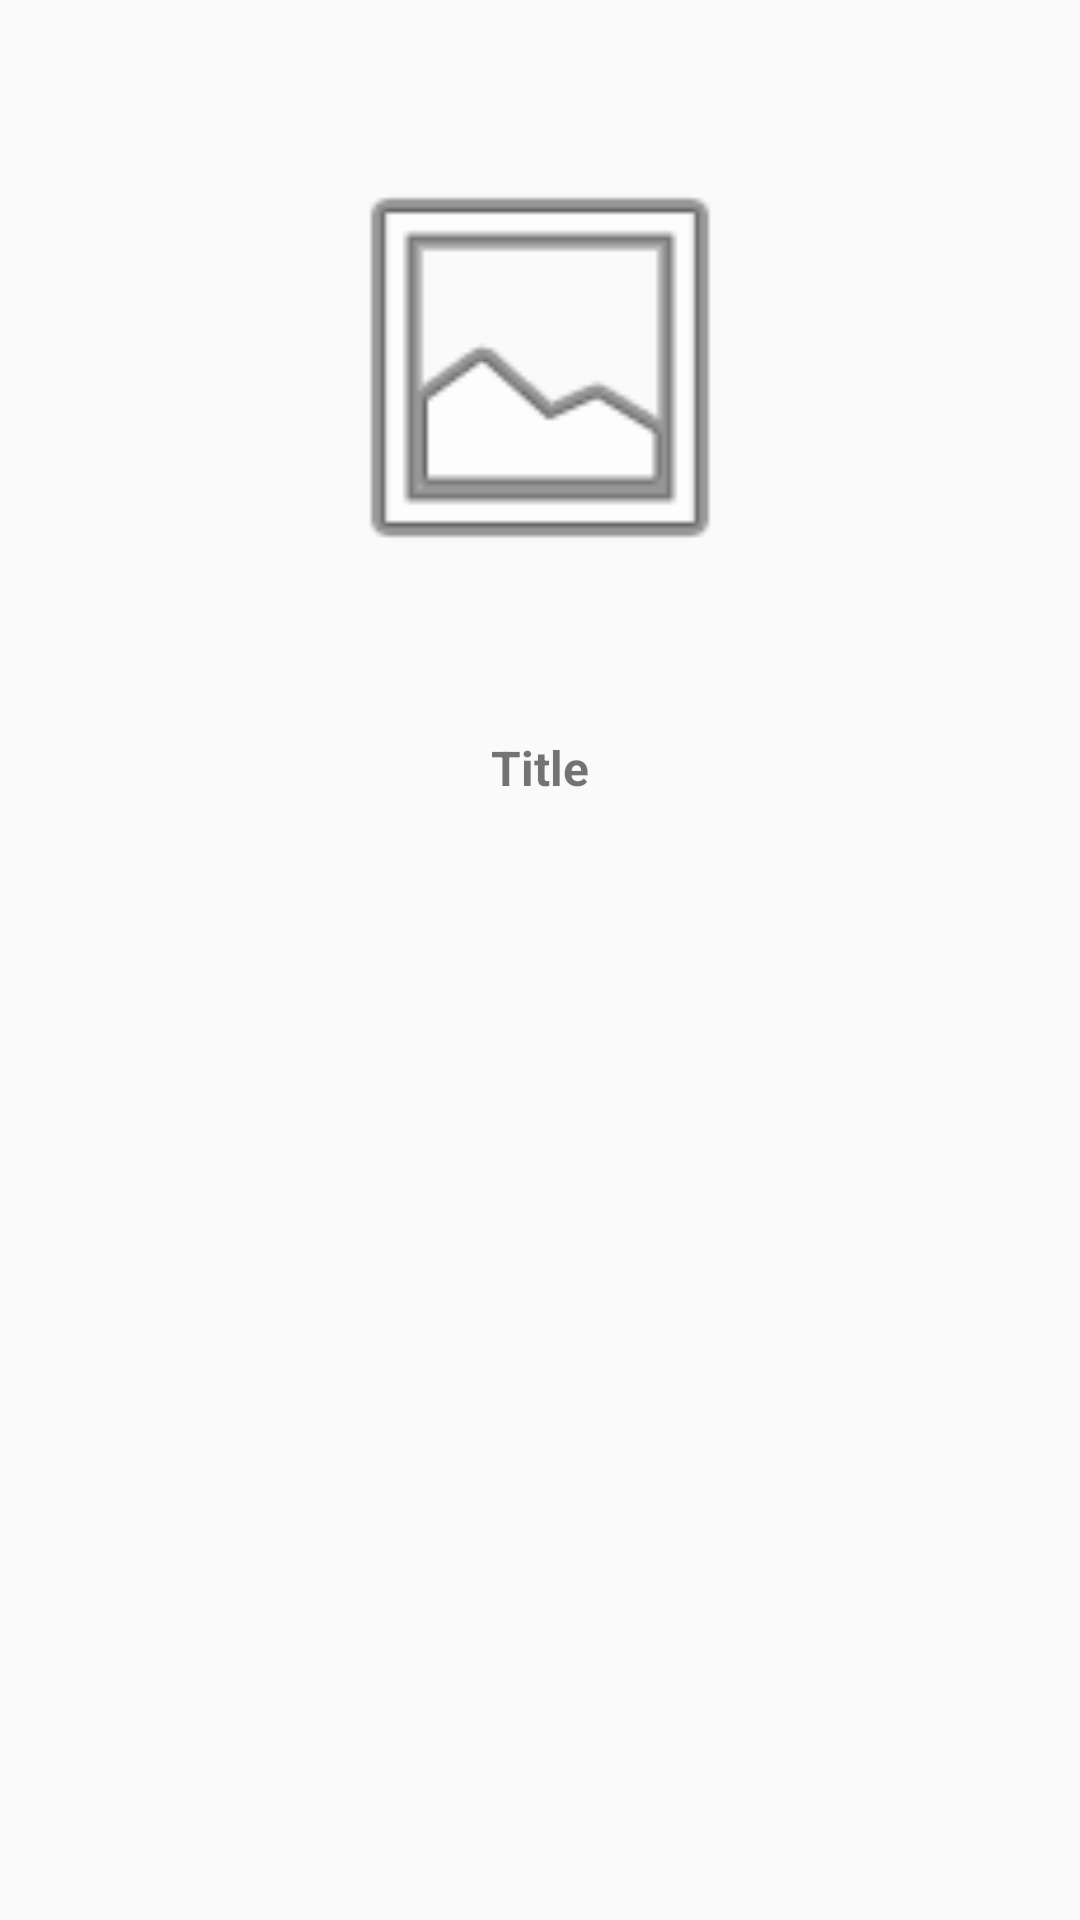

Point at icon controls on the screen. Image size 1080px x 1920px, points as [x,y].
Movie Image: [540,367]
